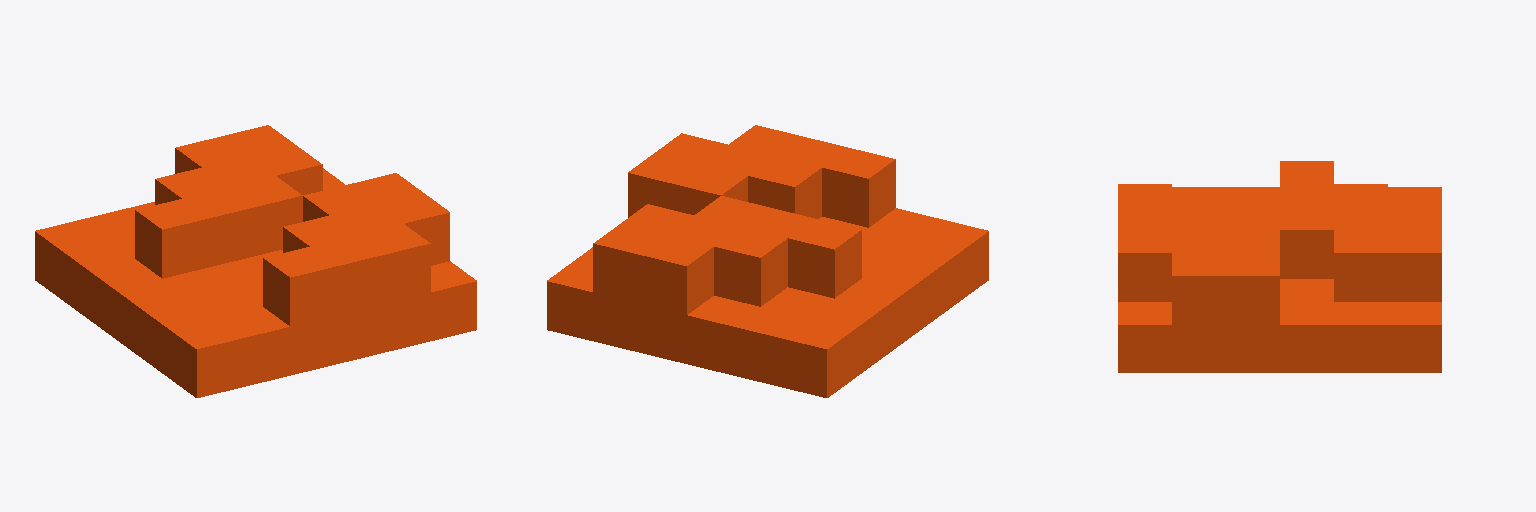
3 views of the same model, side by side, from view 1: azimuth 30°, elevation 25°; view 2: azimuth 150°, elevation 25°; view 3: azimuth 270°, elevation 25° (orthographic).
Parts seen in each view (by area): view 1: object 1; view 2: object 1; view 3: object 1.
Boxes of the visible parts, box(x1,y1,x2,y2) form: object 1: box(35, 125, 476, 397); object 1: box(547, 125, 988, 397); object 1: box(1118, 161, 1441, 372).
Size of the model in its own units: 0.6 by 0.2 by 0.6.
Materials: 1 (1 with a texture image).